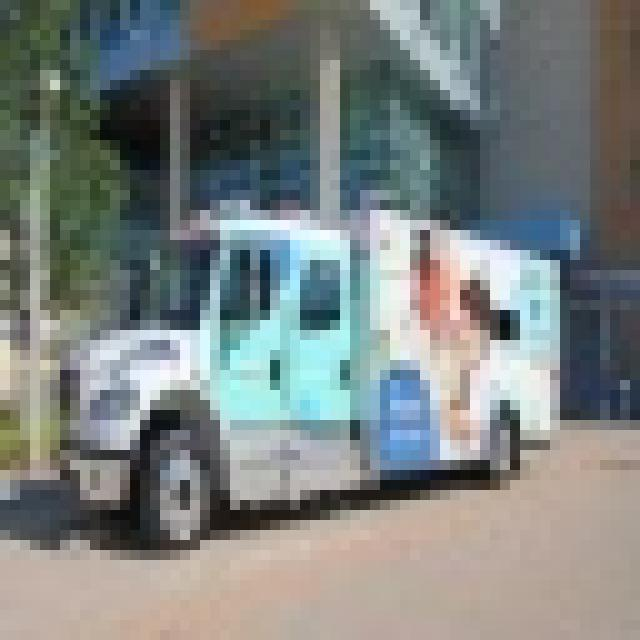Ambulance: (50, 190, 560, 540)
